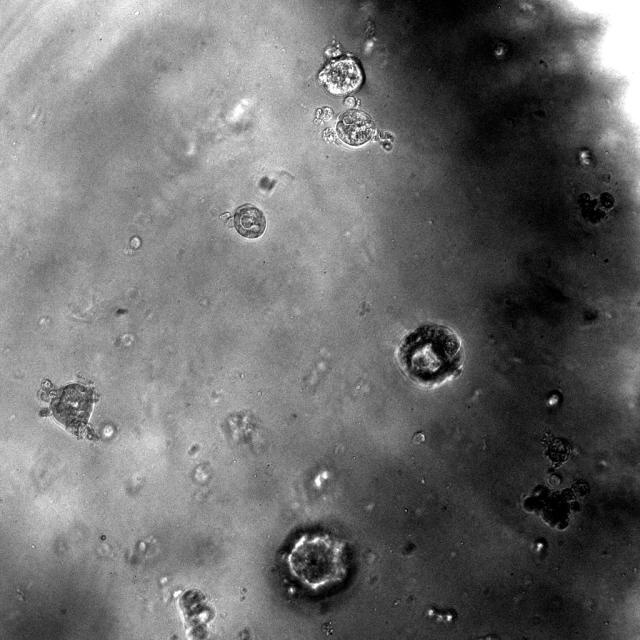organoid: (316, 41, 394, 150), (524, 431, 589, 530), (278, 525, 354, 599), (394, 323, 464, 388), (38, 379, 97, 439), (178, 588, 214, 639), (219, 204, 266, 239), (577, 192, 614, 224), (314, 106, 332, 123), (412, 431, 425, 445)
